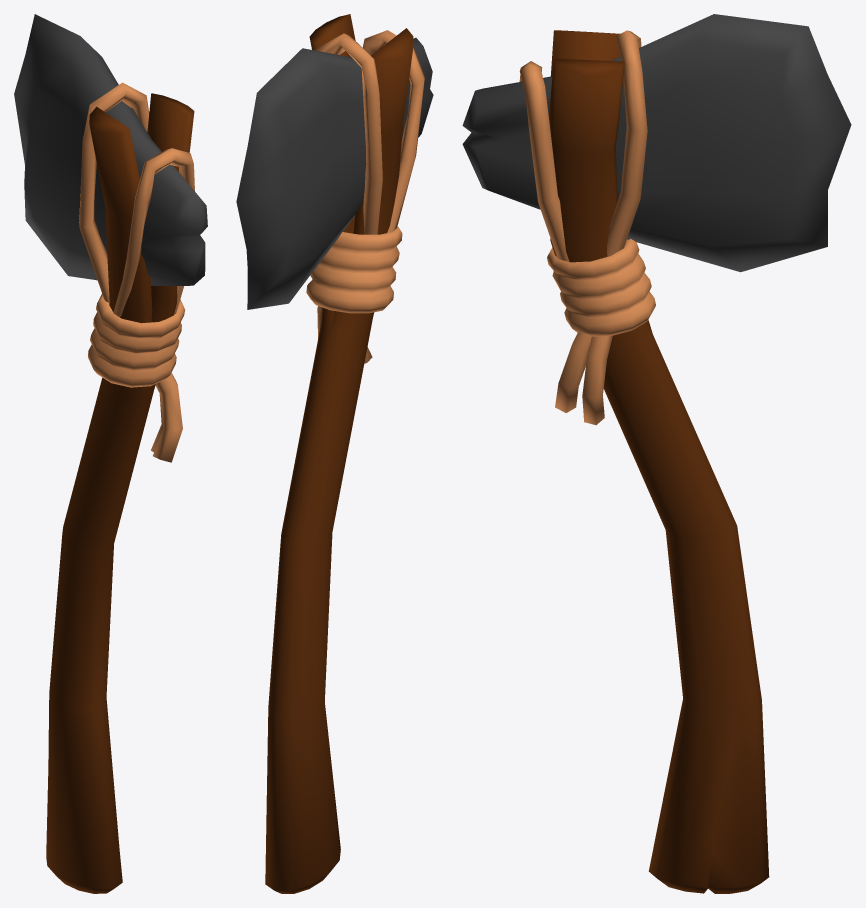
File: Stone Axe Fbx.fbx
3 views of the same model, side by side, from view 1: azimuth 30°, elevation 25°; view 2: azimuth 150°, elevation 25°; view 3: azimuth 270°, elevation 25° (orthographic). The views are drawn at different scales.
Visible parts, largest first — view 1: StoneAxe; view 2: StoneAxe; view 3: StoneAxe.
Boxes of the visible parts, x1,y1,x2,y2 form: StoneAxe: (14, 14, 207, 893); StoneAxe: (236, 14, 433, 893); StoneAxe: (462, 14, 851, 893).
Size of the model in its own units: 11.88 by 103 by 41.62.
